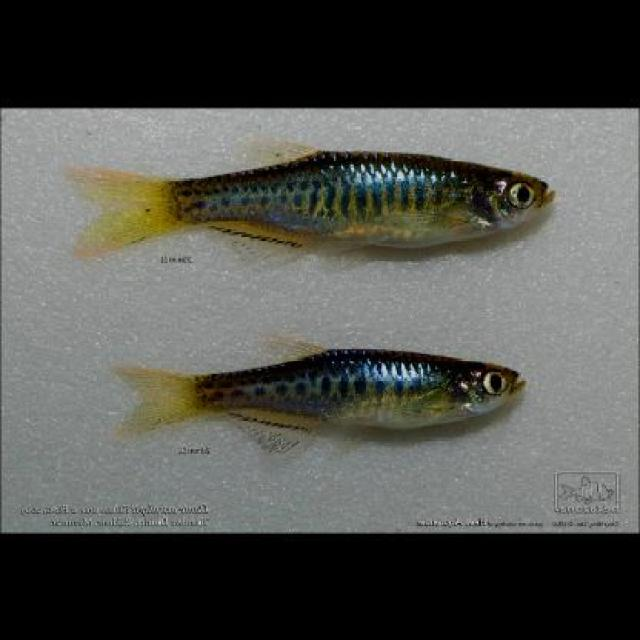ZebraFish: (68, 144, 554, 262), (111, 342, 526, 440)
